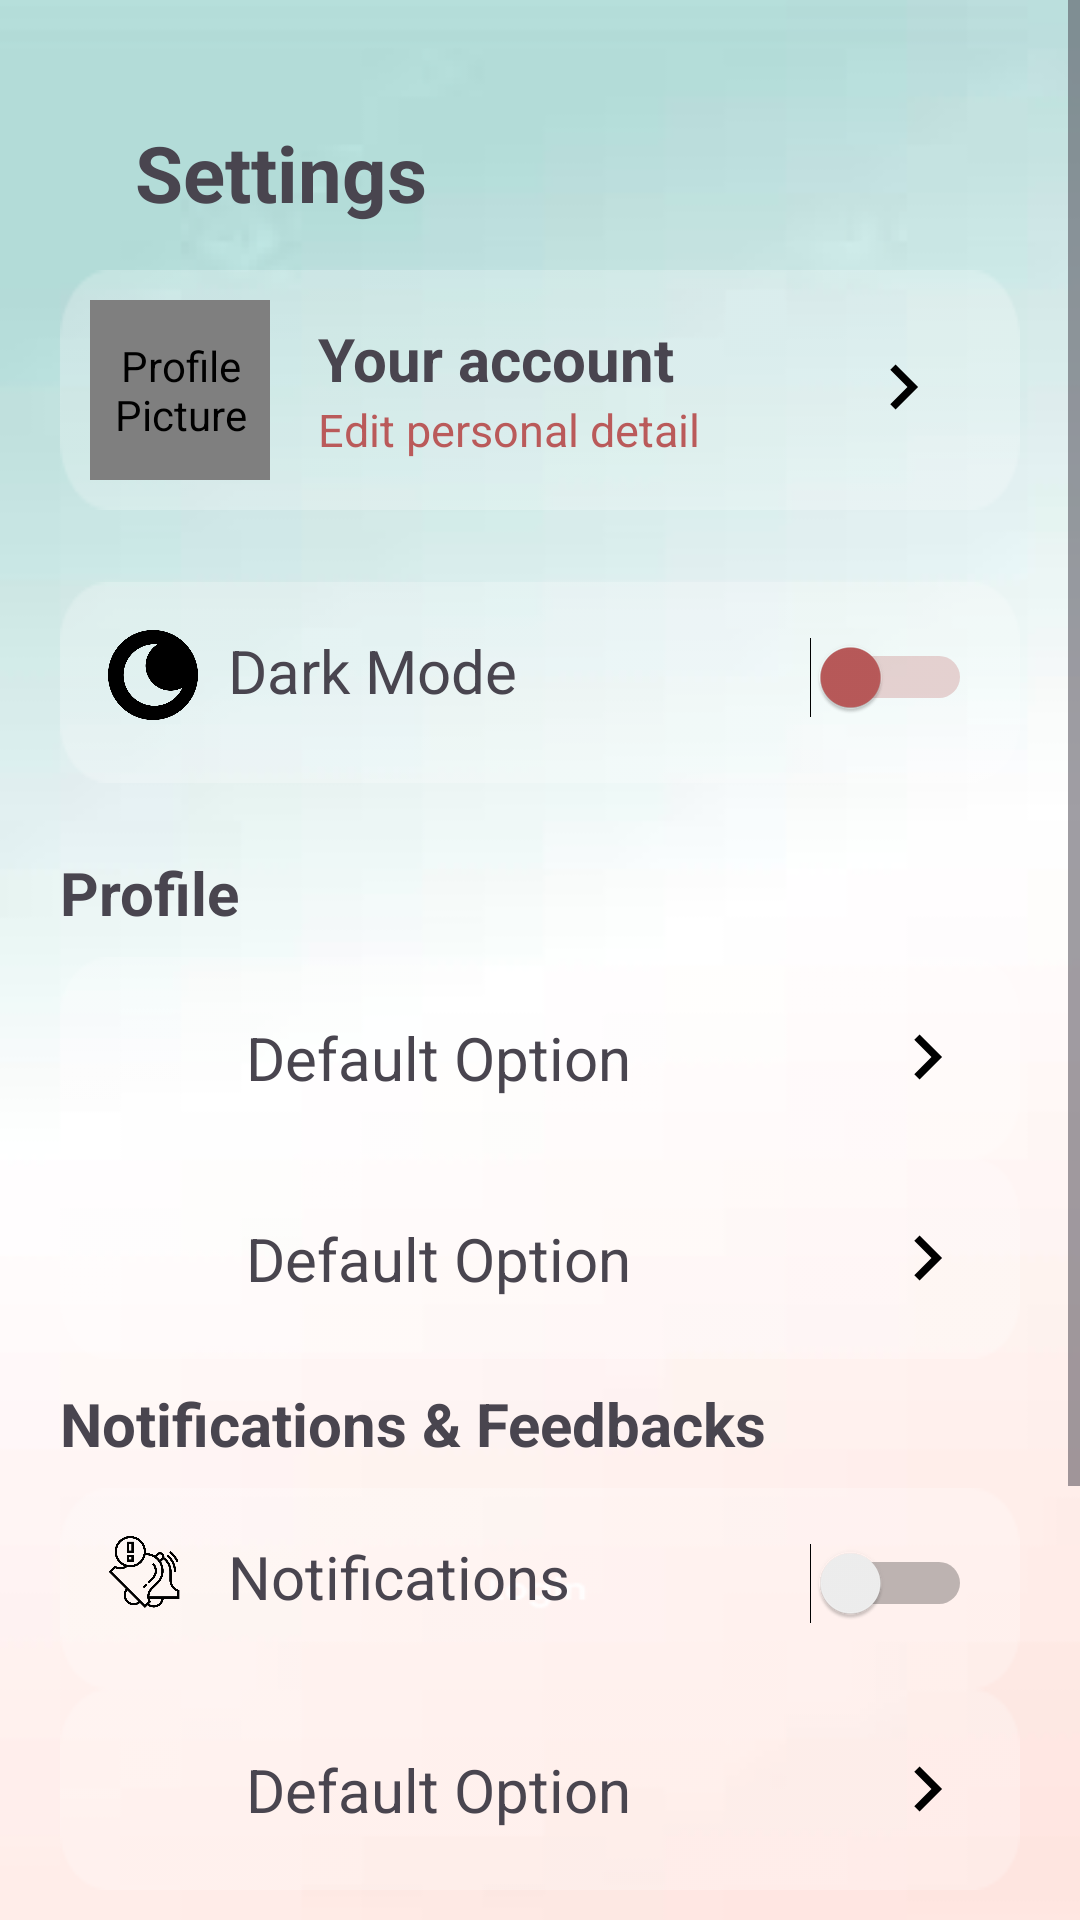

Locate icon controls on the screen. Image size 1080w x 1920h, boxes as [x1=x1, y1=y1, x2=x2, y2=y2].
arrow next: [x1=914, y1=1034, x2=942, y2=1080], [x1=914, y1=1235, x2=942, y2=1281], [x1=914, y1=1766, x2=942, y2=1812]
Go to account details: [x1=890, y1=364, x2=918, y2=410]
Notification icon: [x1=109, y1=1536, x2=180, y2=1608]
